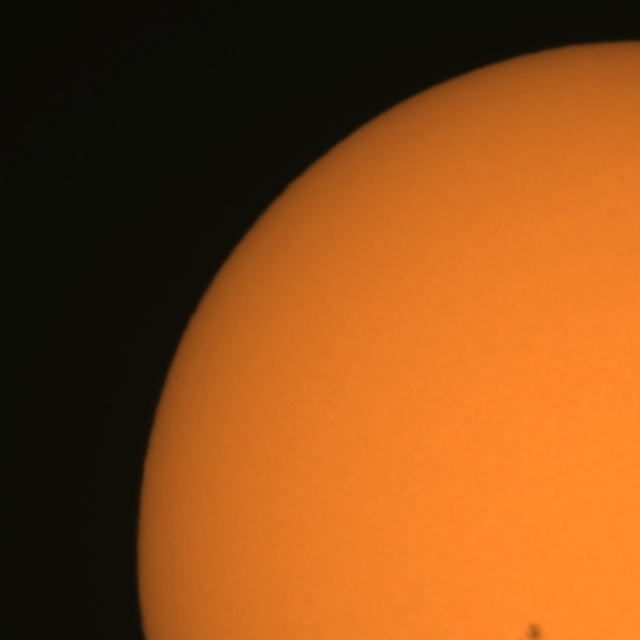sunspot: (512, 620, 546, 640)
